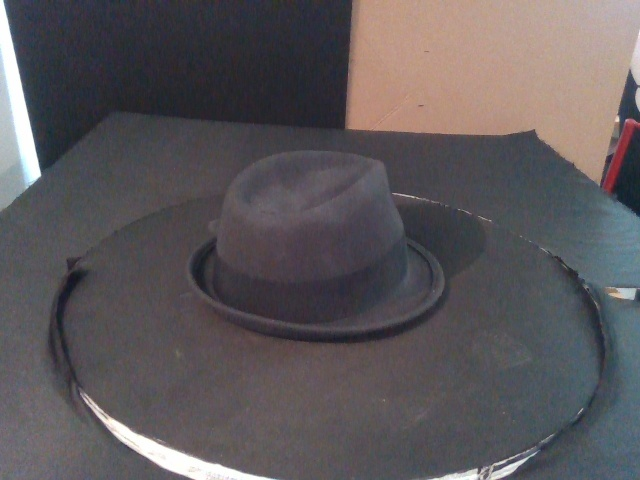hat: (185, 152, 444, 339)
